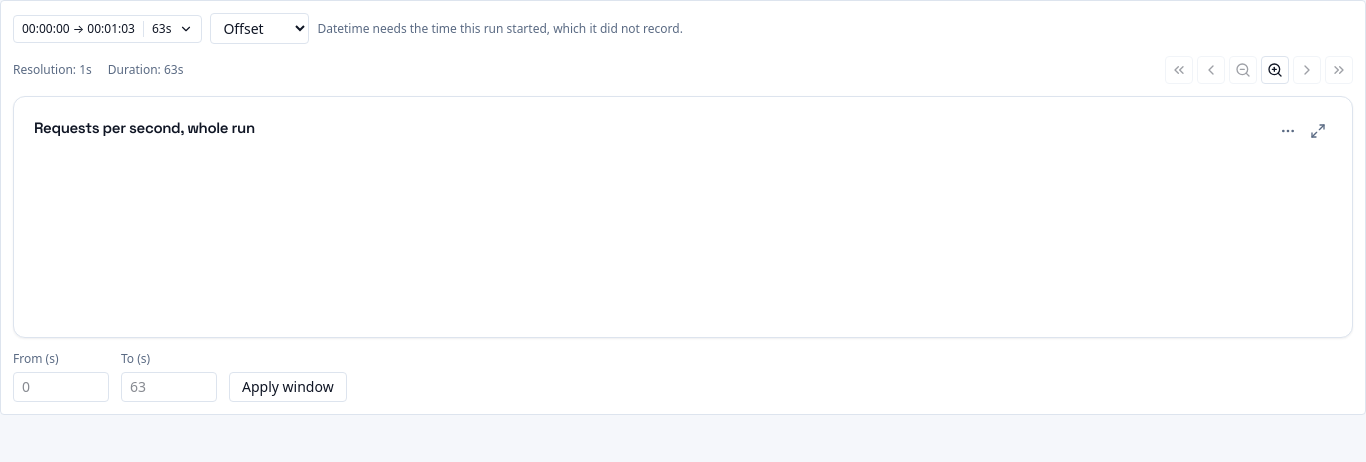
Test: TimeBrush — an invalid range is refused, never widened › accepts a valid range, and drops the error once it does
Type "30" into the field with test id "window-from". click: (61, 387)
box: [13,372,109,402]
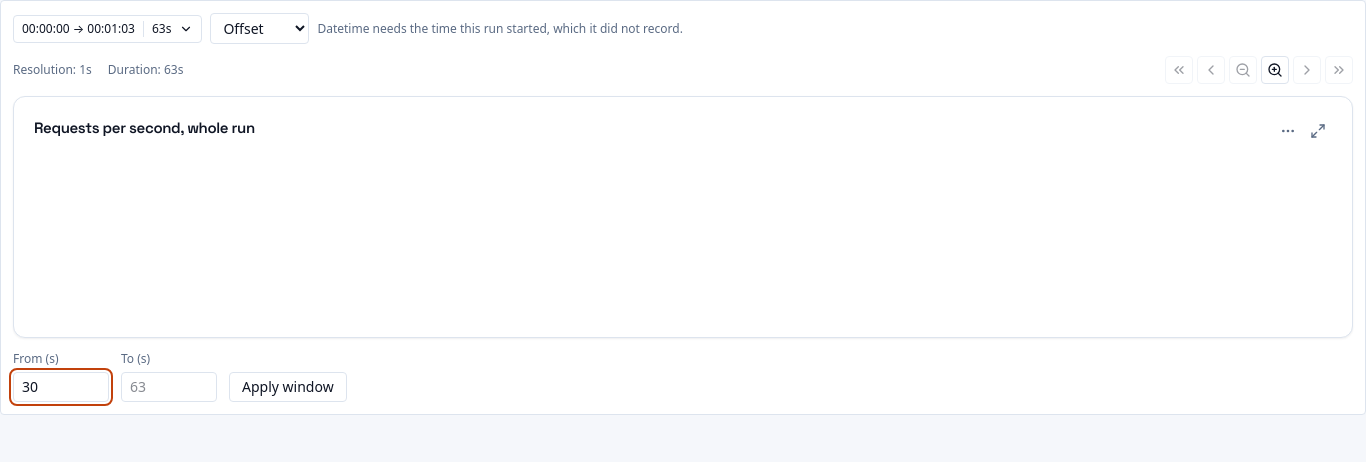
Type "10" into the field with test id "window-to". click: (169, 387)
box: [121,372,217,402]
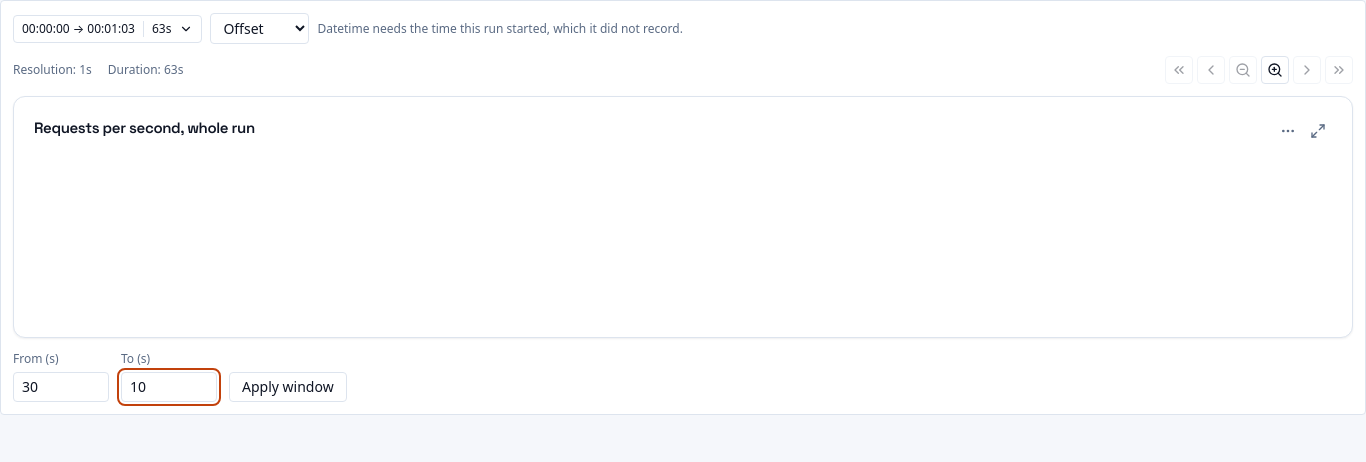
Click the button with test id "window-apply". click: (288, 387)
box: [229,372,347,402]
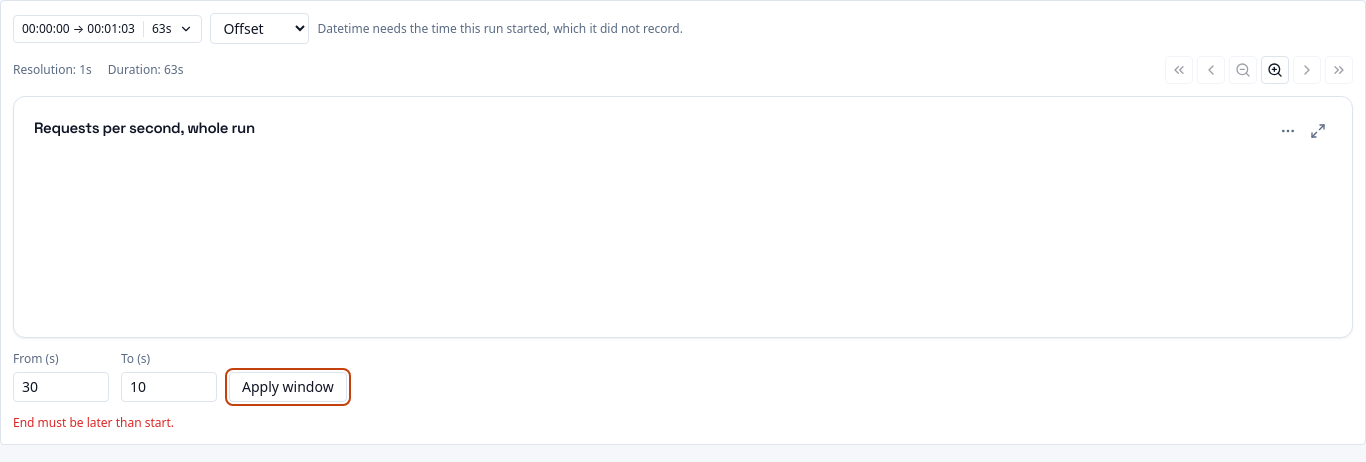
Check: the message "End must be later than start." is shown, box [13,414,174,431]
Replace the text in the field with test id "window-to" with "40". click: (169, 387)
box: [121,372,217,402]
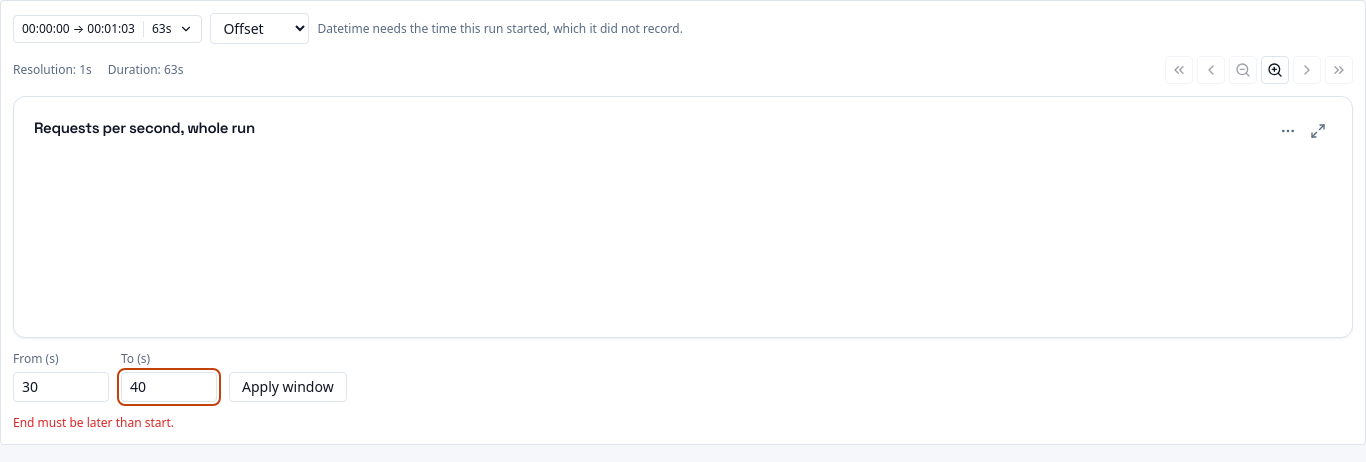
Click the button with test id "window-apply". click: (288, 387)
box: [229,372,347,402]
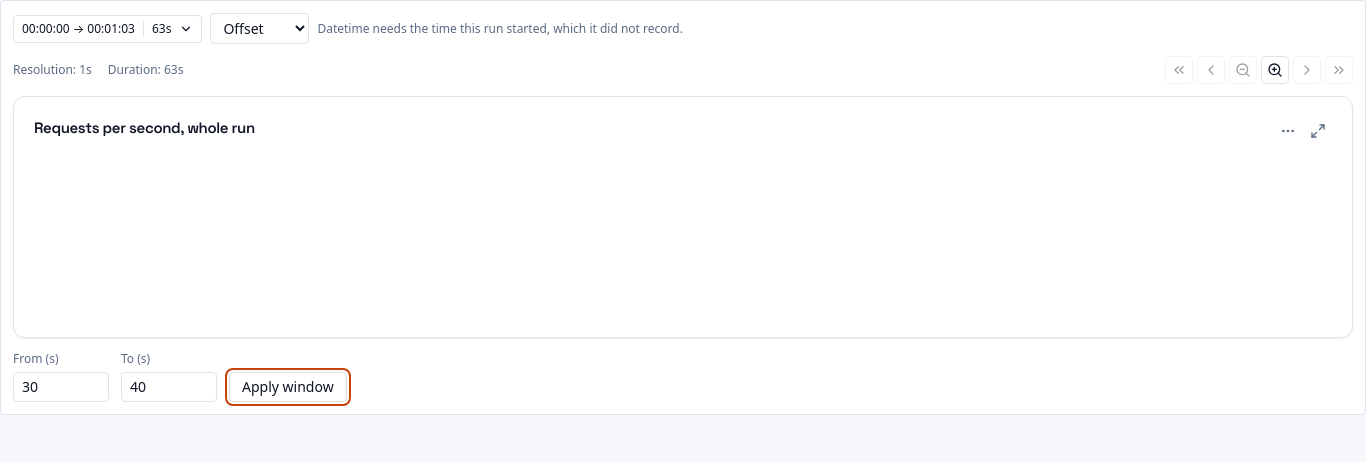
Check: the message "End must be later than start." is gone
